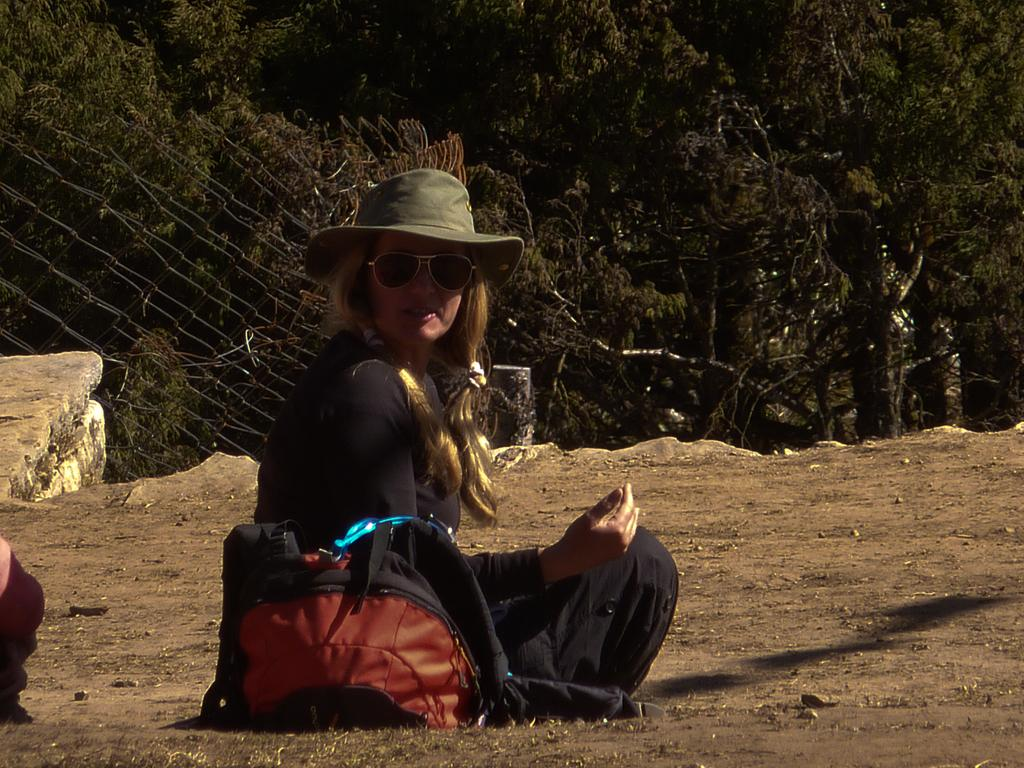Luggage-and-bags: (191, 516, 527, 729)
